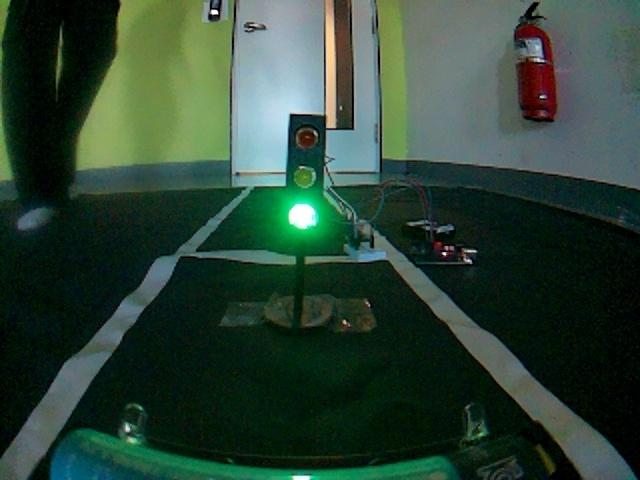go: (17, 348, 624, 480)
green_light: (180, 101, 404, 347)
